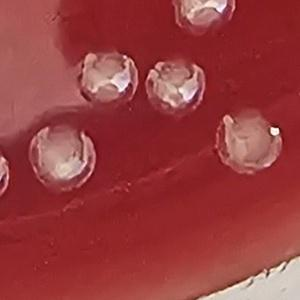colony: (22, 121, 100, 198), (212, 105, 287, 181), (72, 47, 142, 111), (142, 56, 210, 119), (165, 0, 241, 43), (0, 142, 16, 207)
